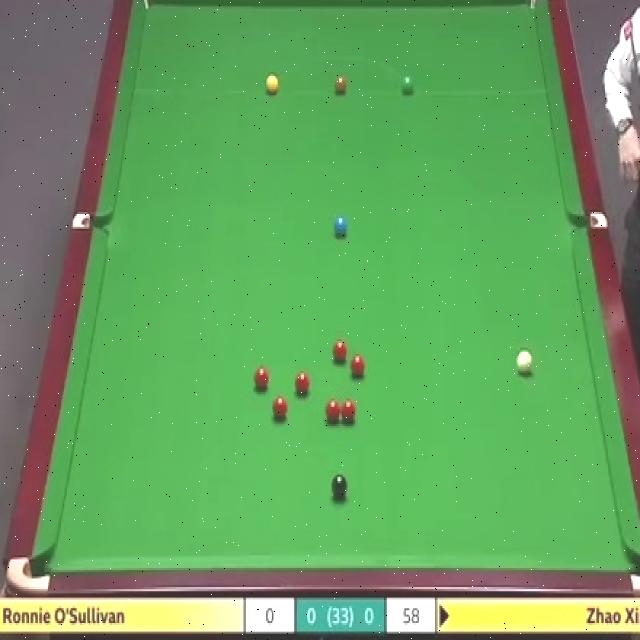black-ball: (332, 474, 348, 501)
blue-ball: (333, 216, 348, 235)
brown-ball: (333, 76, 348, 94)
green-ball: (402, 72, 416, 97)
red-ball: (294, 369, 311, 396), (324, 398, 340, 422), (333, 338, 348, 362), (253, 366, 269, 388), (274, 396, 288, 421), (350, 355, 365, 375), (342, 399, 355, 421)
white-ball: (516, 349, 532, 375)
yellow-ball: (265, 72, 279, 95)
